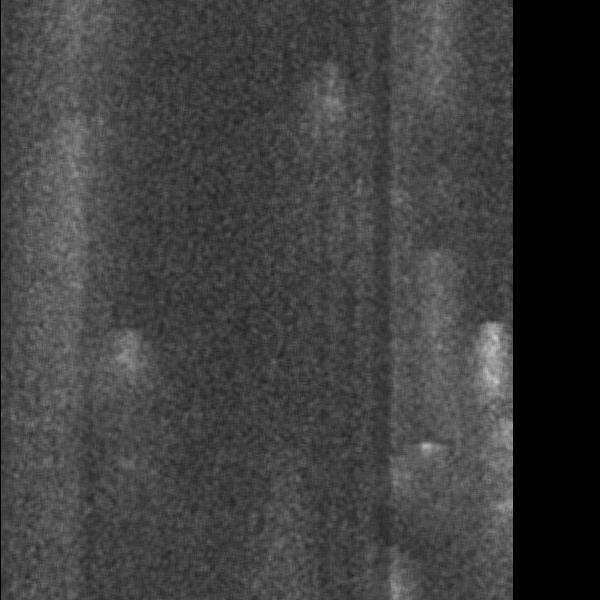spark: (404, 1, 447, 203), (481, 317, 500, 596), (103, 329, 144, 396), (307, 83, 351, 138), (382, 551, 408, 600), (412, 436, 442, 475), (386, 465, 421, 491), (46, 382, 72, 402)
